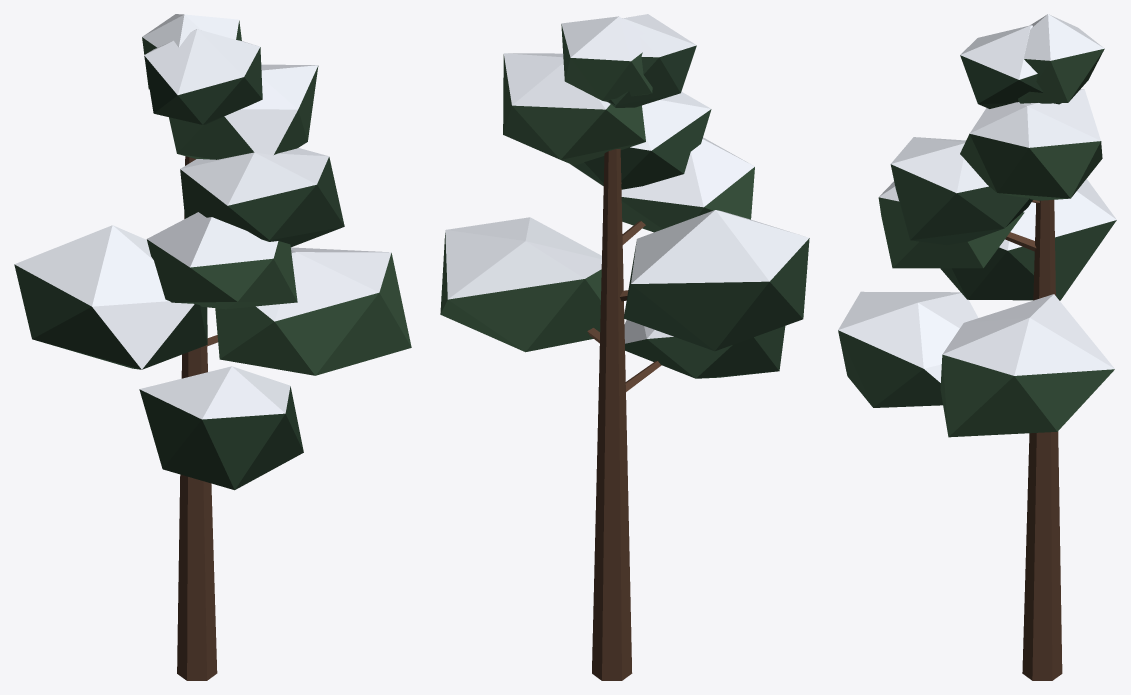
Rendered from pine-1.glb.
3 views of the same model, side by side, from view 1: azimuth 30°, elevation 25°; view 2: azimuth 150°, elevation 25°; view 3: azimuth 270°, elevation 25° (orthographic).
Visible parts, largest first — view 1: pine-1; view 2: pine-1; view 3: pine-1.
Part boxes in pixels (box(x1,y1,x2,y2)): pine-1: box(14, 14, 411, 680); pine-1: box(440, 14, 809, 680); pine-1: box(838, 14, 1116, 680).
Size of the model in its own units: 5.35 by 9.42 by 3.64.
